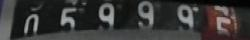digits: (214, 4, 240, 34), (137, 0, 154, 26), (176, 4, 194, 27), (98, 2, 115, 24), (60, 7, 77, 27), (23, 14, 39, 33)
